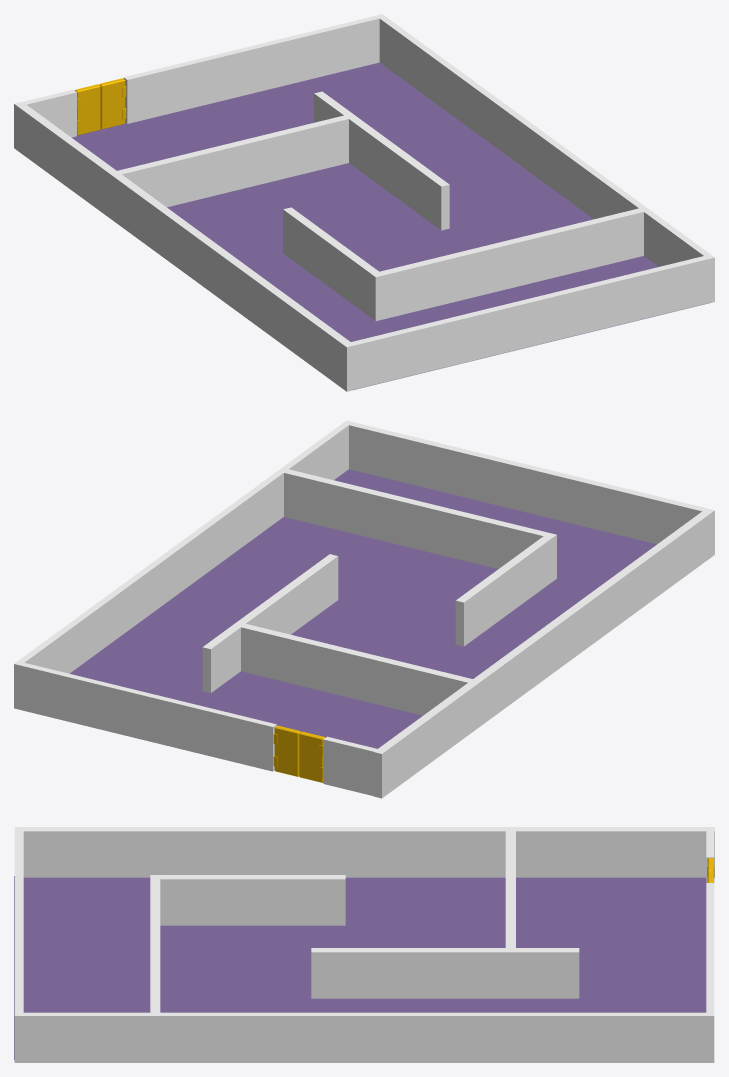
Rendered from maps_90.fbx.
3 views of the same model, one above another, from view 1: azimuth 30°, elevation 25°; view 2: azimuth 150°, elevation 25°; view 3: azimuth 270°, elevation 25° (orthographic). The views are drawn at different scales.
Visible parts, largest first — view 1: wall_01_08_geo, wall_01_07_geo, wall_01_05_geo, wall_01_06_geo, wall_01_07_geo16, wall_01_09_geo1, wall_01_07_geo8, wall_01_07_geo17, wall_01_07_geo18, wall_01_09_geo, polySurface161, polySurface165; view 2: wall_01_08_geo, wall_01_07_geo, wall_01_05_geo, wall_01_06_geo, wall_01_09_geo1, wall_01_07_geo16, wall_01_07_geo8, wall_01_07_geo17, wall_01_07_geo18, wall_01_09_geo, polySurface161, polySurface165; view 3: wall_01_08_geo, wall_01_06_geo, wall_01_07_geo, wall_01_07_geo17, wall_01_07_geo18, wall_01_05_geo, wall_01_07_geo16, wall_01_07_geo8, wall_01_09_geo1.
Boxes of the visible parts, x1,y1,x2,y2 form: wall_01_08_geo: (72, 62, 710, 389); wall_01_07_geo: (14, 101, 354, 391); wall_01_05_geo: (351, 256, 708, 389); wall_01_06_geo: (376, 14, 714, 303); wall_01_07_geo16: (371, 208, 643, 320); wall_01_09_geo1: (123, 15, 379, 123); wall_01_07_geo8: (117, 115, 348, 207); wall_01_07_geo17: (314, 91, 449, 230); wall_01_07_geo18: (283, 207, 378, 317); wall_01_09_geo: (23, 89, 76, 137); polySurface161: (99, 78, 126, 129); polySurface165: (74, 84, 100, 135); wall_01_08_geo: (69, 469, 656, 748); wall_01_07_geo: (373, 508, 714, 798); wall_01_05_geo: (349, 422, 706, 544); wall_01_06_geo: (14, 420, 352, 709); wall_01_09_geo1: (20, 663, 276, 771); wall_01_07_geo16: (284, 469, 556, 581); wall_01_07_geo8: (241, 624, 472, 715); wall_01_07_geo17: (202, 554, 338, 693); wall_01_07_geo18: (455, 536, 551, 646); wall_01_09_geo: (323, 736, 377, 795); polySurface161: (273, 725, 300, 776); polySurface165: (299, 731, 325, 782); wall_01_08_geo: (14, 876, 706, 1060); wall_01_06_geo: (14, 1012, 714, 1062); wall_01_07_geo: (14, 827, 714, 878); wall_01_07_geo17: (311, 948, 579, 998); wall_01_07_geo18: (160, 875, 345, 925); wall_01_05_geo: (14, 831, 23, 1012); wall_01_07_geo16: (150, 875, 160, 1012); wall_01_07_geo8: (505, 831, 515, 947); wall_01_09_geo1: (706, 883, 714, 1012).
Size of the model in its own units: 76.85 by 8.89 by 120.
2 materials, 2 textured.
